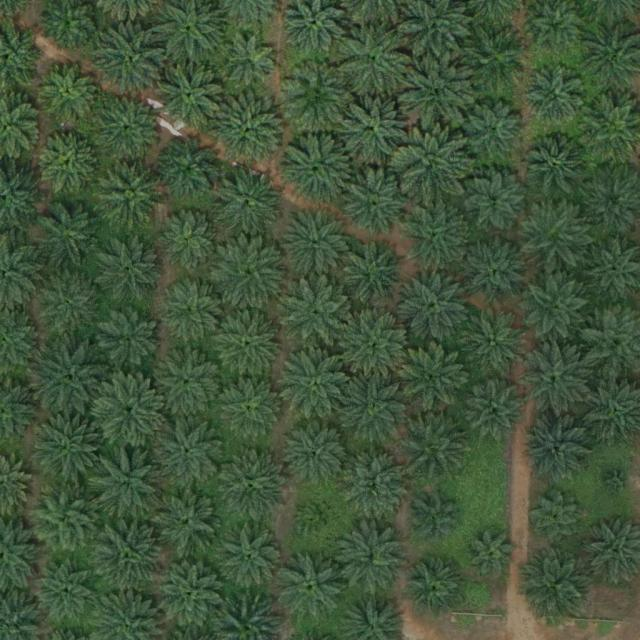Healthy: (339, 371, 410, 442), (340, 449, 411, 520), (216, 239, 287, 310), (95, 376, 166, 447), (35, 200, 106, 271), (32, 414, 103, 485), (94, 521, 165, 592), (94, 26, 164, 97), (94, 159, 164, 230), (156, 58, 227, 128), (215, 95, 285, 166), (283, 61, 353, 132), (284, 132, 354, 203), (341, 91, 411, 162), (401, 58, 472, 128), (397, 130, 468, 200), (461, 25, 531, 96), (519, 200, 589, 271), (522, 274, 592, 345), (399, 272, 469, 343), (402, 342, 472, 413), (402, 409, 472, 480), (281, 209, 352, 279), (284, 281, 354, 352), (282, 350, 352, 421), (217, 311, 287, 382), (94, 236, 164, 307), (94, 446, 164, 517), (37, 344, 107, 415), (29, 485, 99, 556), (157, 561, 227, 632), (337, 526, 407, 597), (93, 95, 163, 165), (342, 25, 412, 95), (522, 345, 592, 415), (524, 417, 594, 487), (458, 305, 528, 375), (401, 203, 471, 273), (343, 169, 413, 239), (343, 312, 413, 382), (213, 168, 283, 238), (218, 452, 288, 522), (155, 350, 225, 420), (157, 419, 227, 489), (34, 270, 104, 340), (154, 487, 224, 557), (277, 553, 347, 623), (524, 550, 594, 620), (157, 138, 220, 201), (527, 137, 590, 200), (465, 380, 528, 443), (100, 310, 163, 373), (41, 62, 103, 125), (39, 132, 101, 195), (220, 33, 282, 96), (464, 99, 526, 162), (465, 173, 527, 236), (524, 66, 587, 128), (465, 238, 527, 301), (346, 242, 408, 305), (287, 422, 349, 485), (220, 379, 282, 442), (35, 564, 98, 626), (221, 528, 283, 591), (158, 212, 220, 274), (161, 283, 223, 345), (409, 561, 464, 617), (528, 2, 583, 57), (531, 493, 585, 548), (414, 498, 461, 546), (468, 531, 515, 578)
Small: (300, 500, 339, 540), (603, 466, 634, 498)
